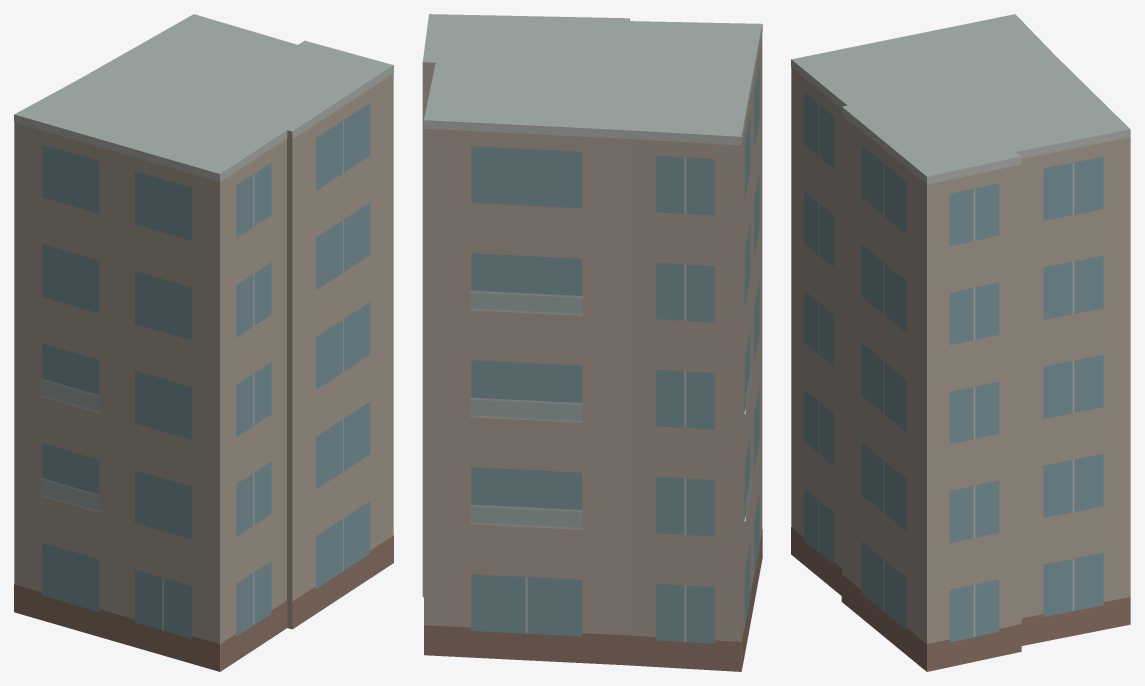
Rendered from survey-upis-32644227.glb.
3 views of the same model, side by side, from view 1: azimuth 30°, elevation 25°; view 2: azimuth 150°, elevation 25°; view 3: azimuth 270°, elevation 25° (orthographic). The views are drawn at different scales.
Parts seen in each view (by area): view 1: survey-upis-32644227.tmp; view 2: survey-upis-32644227.tmp; view 3: survey-upis-32644227.tmp.
Boxes of the visible parts, x1,y1,x2,y2 form: survey-upis-32644227.tmp: (14, 14, 393, 671); survey-upis-32644227.tmp: (422, 14, 762, 671); survey-upis-32644227.tmp: (791, 14, 1130, 671).
Size of the model in its own units: 10.69 by 15.15 by 9.42.
